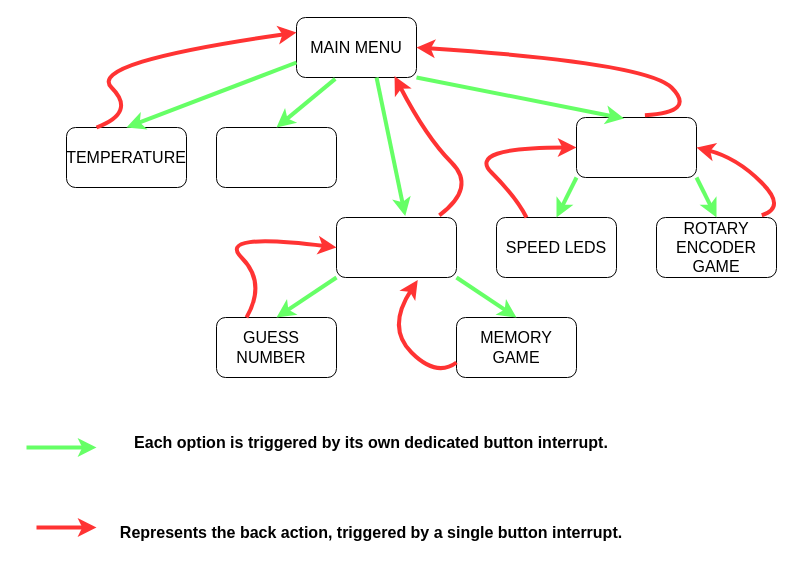
The diagram is 794 pixels wide and 565 high, and some of its shapes have lost their labels. Each missing label, with the centre of its shape:
"GAMES" belongs at (x=396, y=247).
"LED GAMES" belongs at (x=636, y=147).
"LIGHT" belongs at (x=276, y=157).
